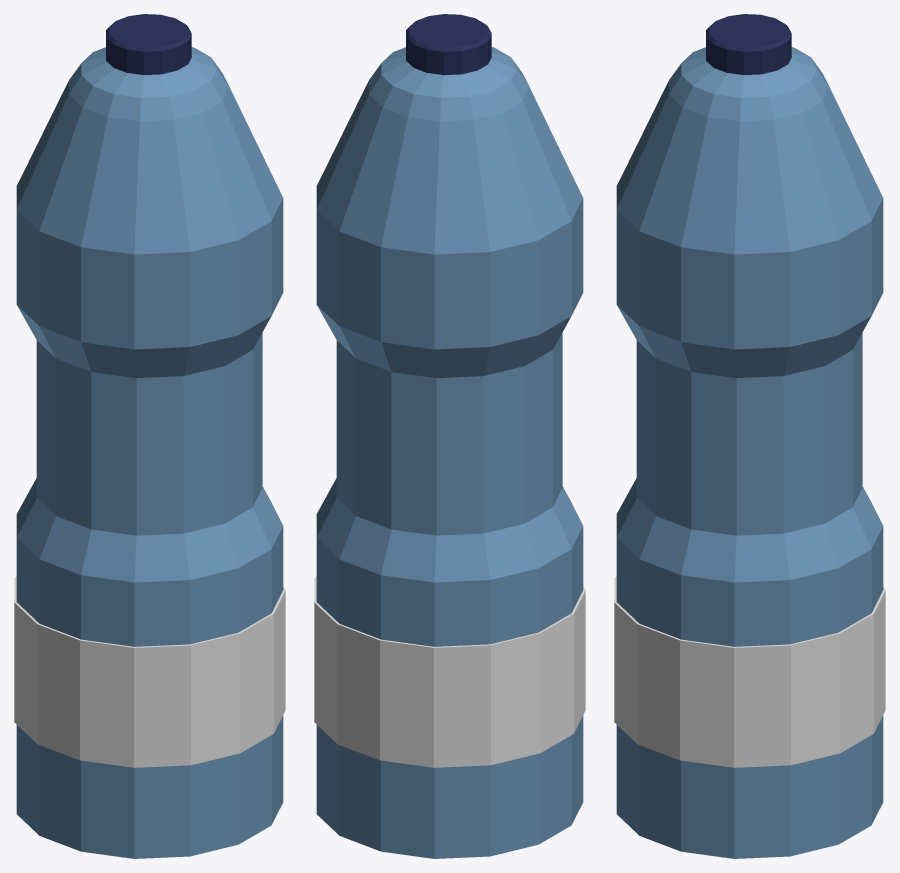
Rendered from Item_WaterBottle.fbx.
3 renders of one model, left to right at view 1: azimuth 30°, elevation 25°; view 2: azimuth 150°, elevation 25°; view 3: azimuth 270°, elevation 25°, orthographic.
Parts seen in each view (by area): view 1: Cylinder; view 2: Cylinder; view 3: Cylinder.
Part boxes in pixels (bbox=[...]): Cylinder: bbox=[14, 14, 285, 858]; Cylinder: bbox=[314, 14, 585, 858]; Cylinder: bbox=[614, 14, 885, 858].
Size of the model in its own units: 203 by 646 by 201.
